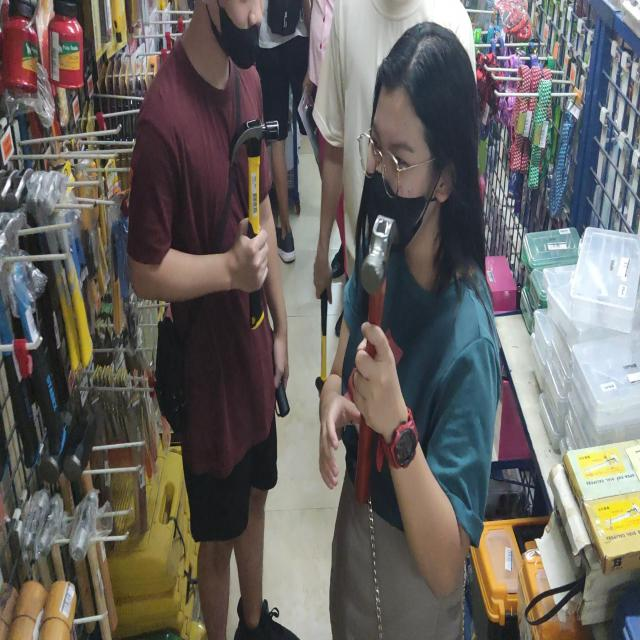hammer: (355, 214, 399, 503), (229, 119, 279, 330)
